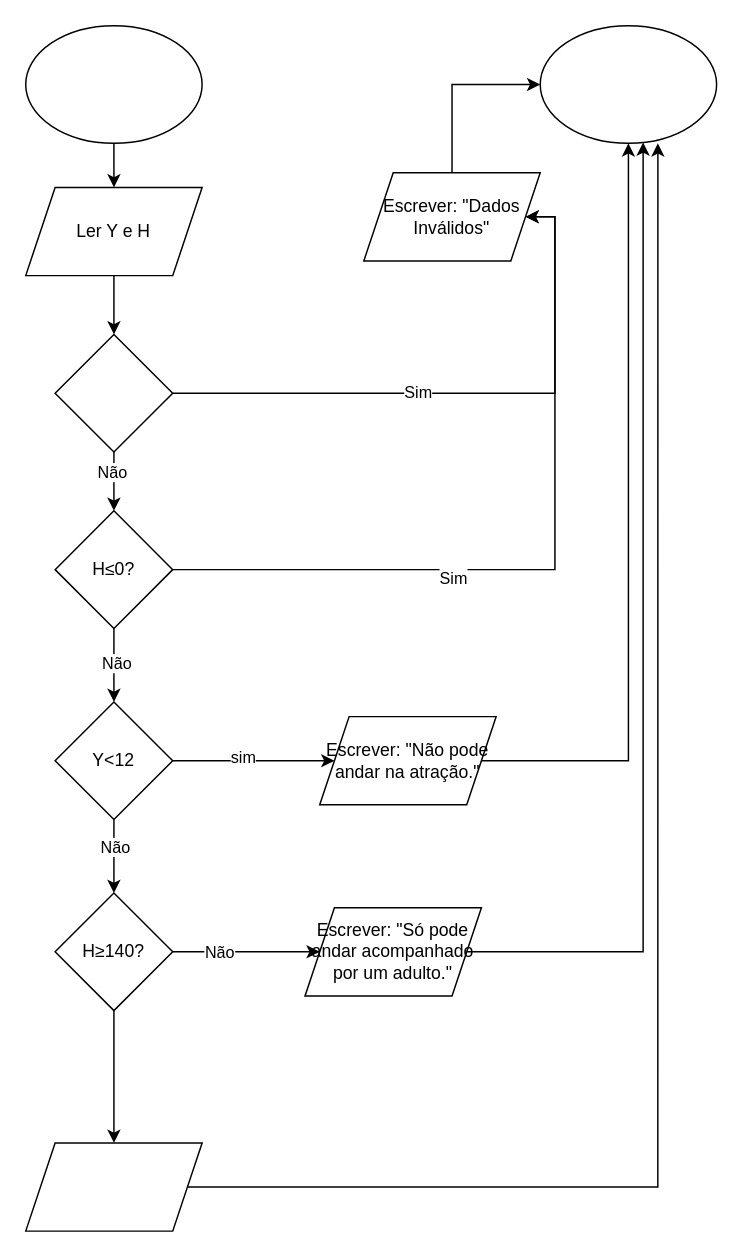
Some shapes in this 742 by 1257 pixel diagram are drawn without their labels. Here are the shapes that lost their labels. From the top down, the centre of each, then its label:
[113,83]: Início
[628,83]: Fim
[113,392]: Y≤ 0?
[113,1186]: Escrever: "Pode andar sozinho."
